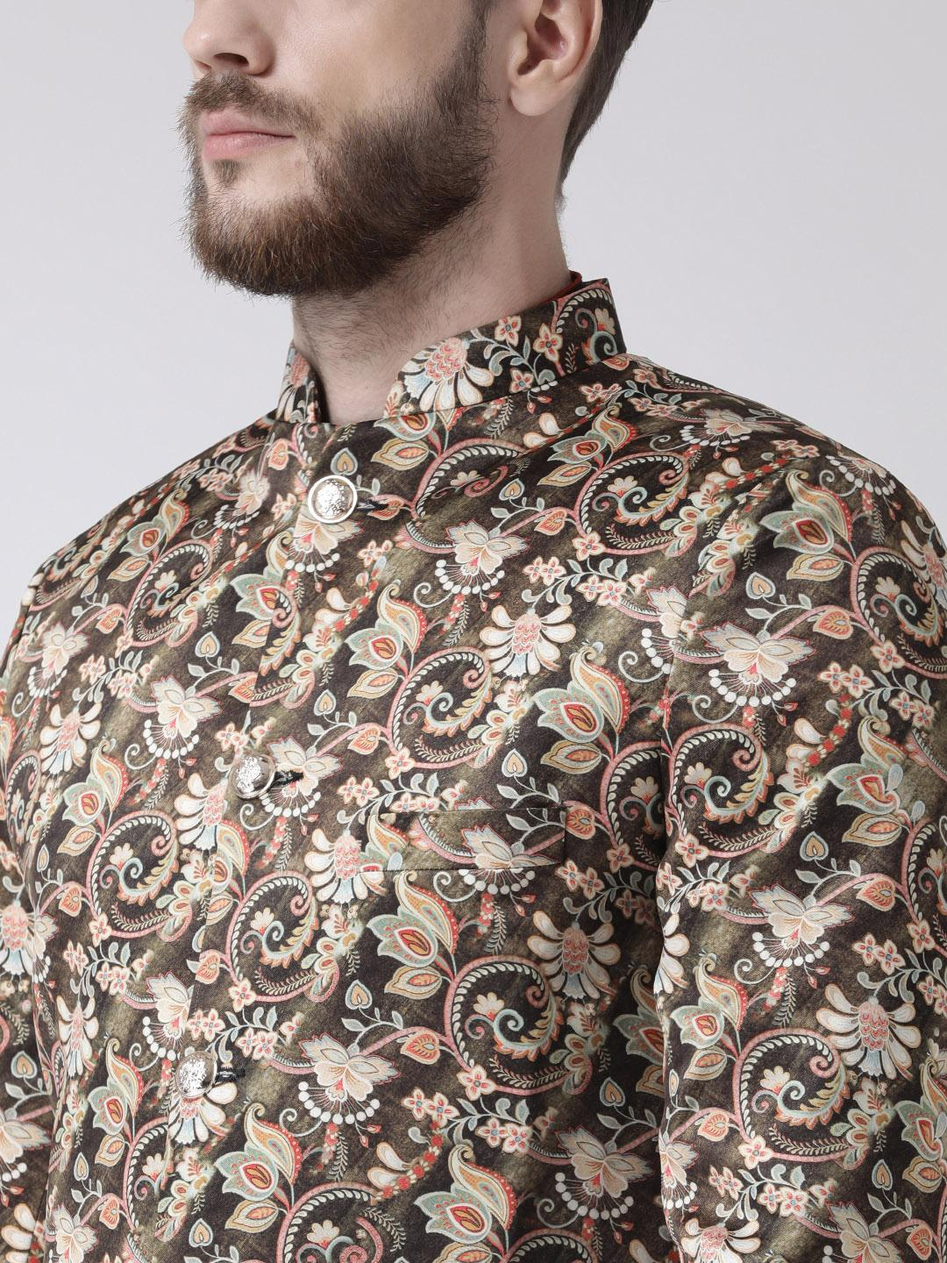Desgin sherwani: (2, 272, 943, 1259)
